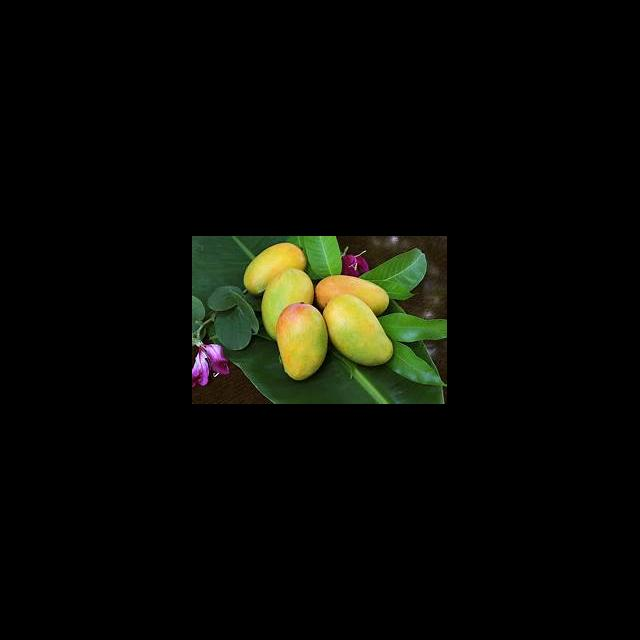mango: (322, 294, 394, 367), (274, 302, 330, 382), (262, 267, 316, 341), (242, 242, 308, 296), (314, 275, 392, 318)
